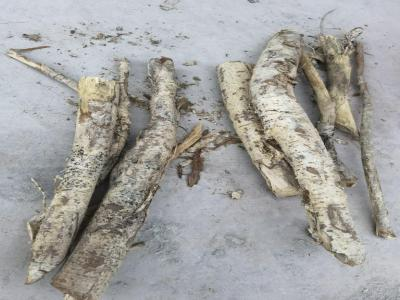Root: (217, 29, 365, 265), (52, 59, 178, 300), (26, 59, 130, 283)
